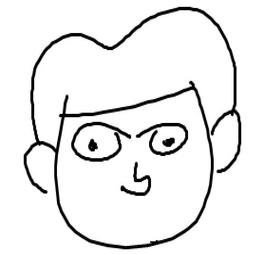ear: (207, 107, 246, 178), (23, 139, 61, 197)
eye: (70, 118, 124, 166), (145, 118, 195, 158)
nose: (113, 160, 157, 208)
